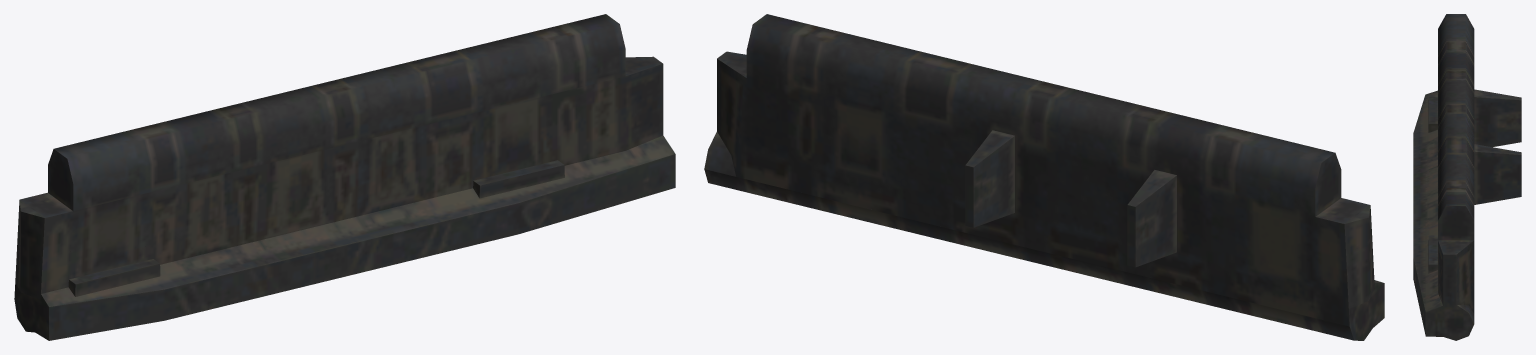
3 renders of one model, left to right at view 1: azimuth 30°, elevation 25°; view 2: azimuth 150°, elevation 25°; view 3: azimuth 270°, elevation 25°, orthographic. The views are drawn at different scales.
Visible parts, largest first — view 1: set_0_group_0; view 2: set_0_group_0; view 3: set_0_group_0.
Boxes of the visible parts, x1,y1,x2,y2 form: set_0_group_0: (14, 14, 675, 340); set_0_group_0: (704, 14, 1384, 340); set_0_group_0: (1413, 14, 1521, 340).
Size of the model in its own units: 0.8 by 0.2045 by 0.1665.
1 material, 1 textured.
